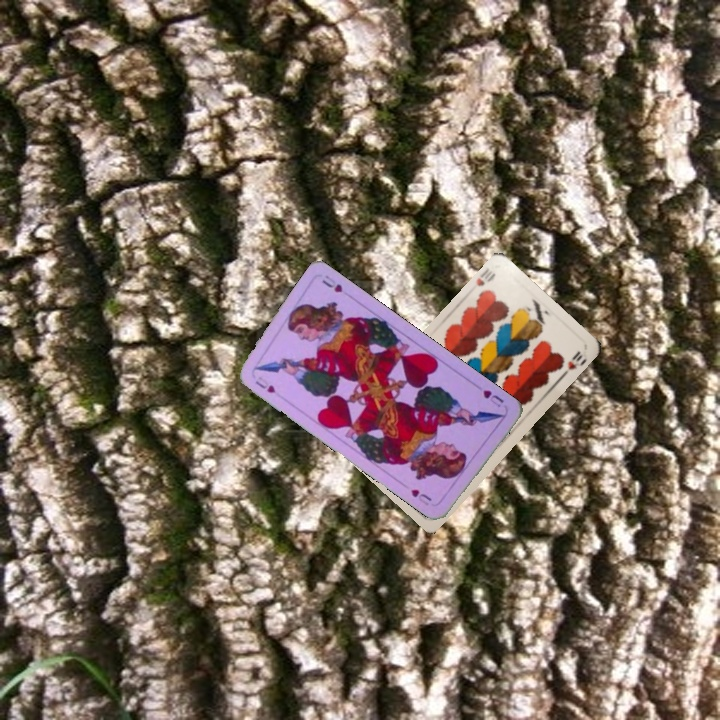H10: (472, 264, 498, 289)
HU: (478, 386, 507, 410), (251, 376, 278, 396)
